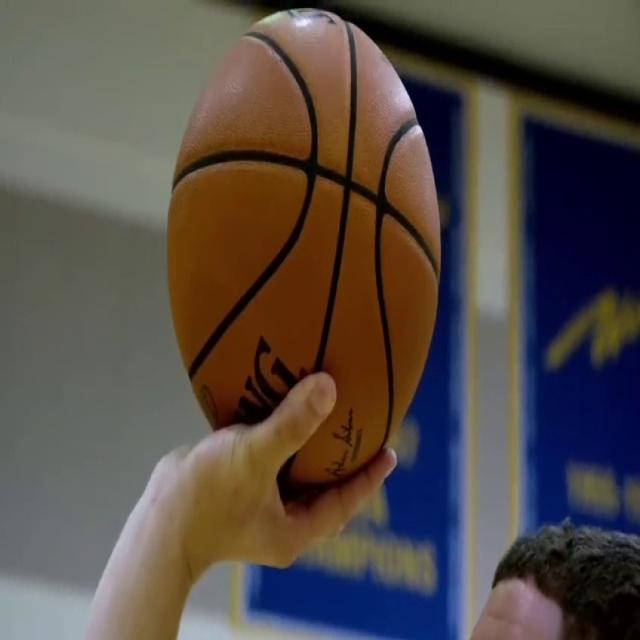ball: (166, 5, 444, 502)
